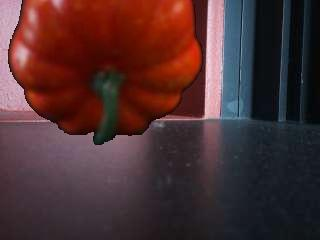Pumpkin: (8, 0, 200, 144)
